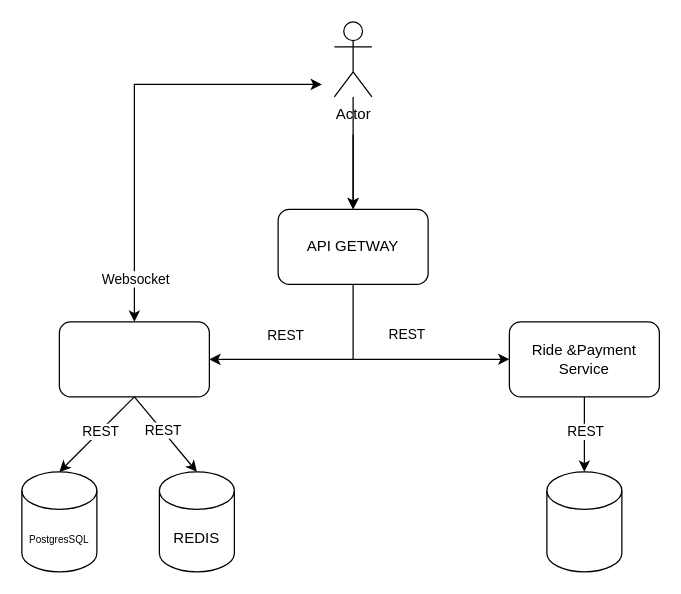
This 681x594 diagram has some shape labels left out. The shapes that lost their labels are listed below. From the top down, each one's centre as x and y in pixels, then its label:
At [133,359]: "User & Location serviceservice".
At [584,521]: "MongoDB".
